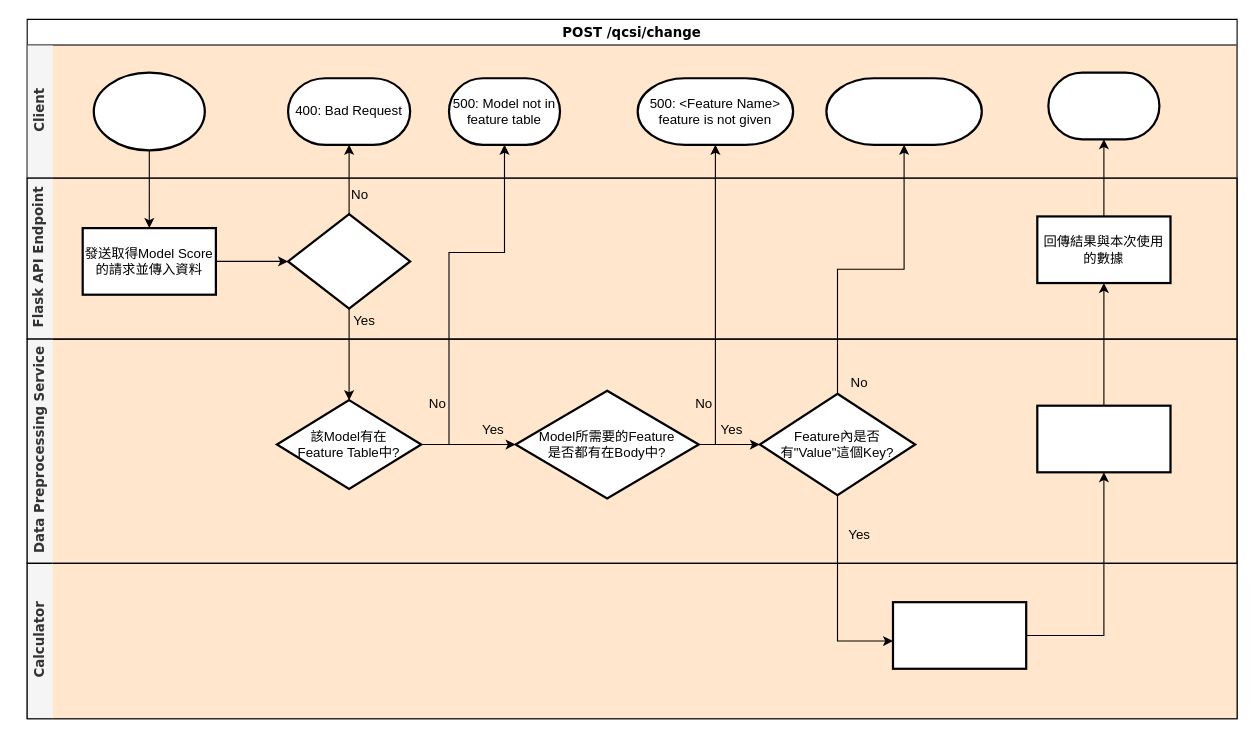
Some shapes in this 1257 by 738 pixel diagram are drawn without their labels. The centre of each missing label's shape, as x and y in pixels:
"200: Response" goes at (x=1103, y=105).
"500: <Feature Name> has no value key" goes at (x=903, y=111).
"Request" goes at (x=148, y=111).
"將結果與本次使用的數據回傳" goes at (x=1103, y=438).
"是否有傳入資料 (Request Body是否不為空)" goes at (x=348, y=261).
"計算Model Score" goes at (x=959, y=635).
